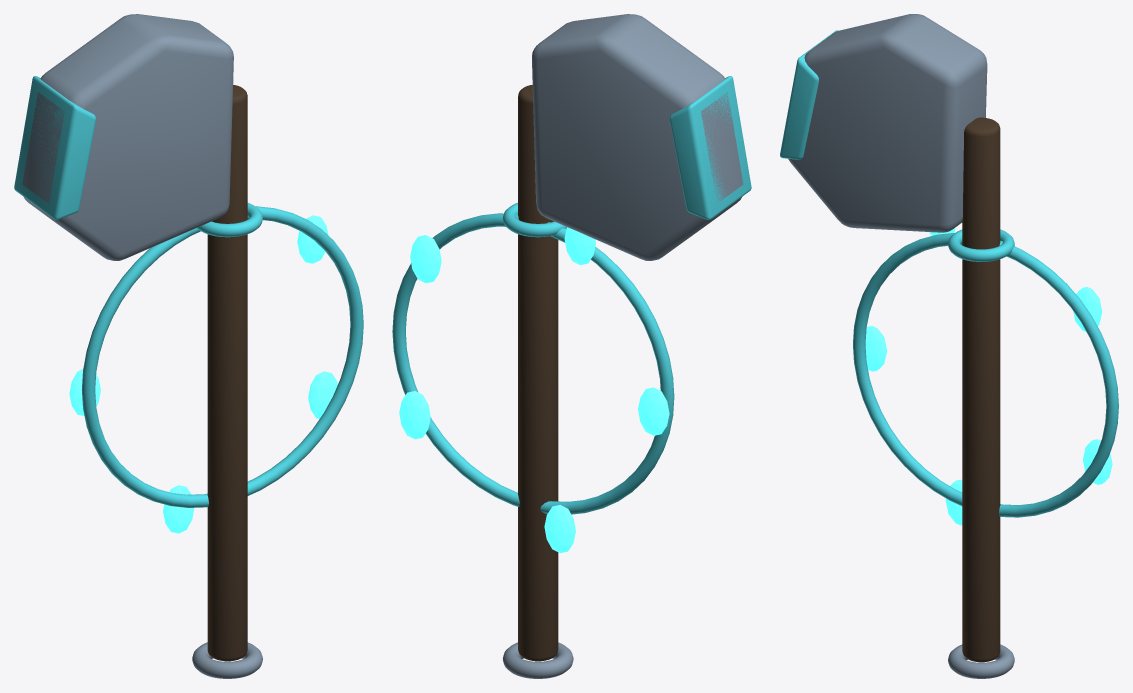
File: axe_v2.glb
3 renders of one model, left to right at view 1: azimuth 30°, elevation 25°; view 2: azimuth 150°, elevation 25°; view 3: azimuth 330°, elevation 25°, orthographic. The views are drawn at different scales.
Parts seen in each view (by area): view 1: AXE_HEAD_PRIMARY, HAFT_SECONDARY, VARIANT_HALO_ACCENT, AXE_EDGE_ACCENT, AXE_POMMEL_PRIMARY, AXE_COLLAR_ACCENT, VARIANT_GEM_EMISSIVE.004, VARIANT_GEM_EMISSIVE.003, VARIANT_GEM_EMISSIVE, VARIANT_GEM_EMISSIVE.002; view 2: AXE_HEAD_PRIMARY, HAFT_SECONDARY, VARIANT_HALO_ACCENT, AXE_EDGE_ACCENT, AXE_POMMEL_PRIMARY, VARIANT_GEM_EMISSIVE, VARIANT_GEM_EMISSIVE.002, VARIANT_GEM_EMISSIVE.004, VARIANT_GEM_EMISSIVE.003, AXE_COLLAR_ACCENT, VARIANT_GEM_EMISSIVE.001; view 3: AXE_HEAD_PRIMARY, HAFT_SECONDARY, VARIANT_HALO_ACCENT, AXE_EDGE_ACCENT, AXE_POMMEL_PRIMARY, AXE_COLLAR_ACCENT, VARIANT_GEM_EMISSIVE.002, VARIANT_GEM_EMISSIVE, VARIANT_GEM_EMISSIVE.004.
Part boxes in pixels (x1,y1,x2,y2): AXE_HEAD_PRIMARY: (22, 14, 233, 260); HAFT_SECONDARY: (207, 84, 247, 661); VARIANT_HALO_ACCENT: (82, 206, 363, 507); AXE_EDGE_ACCENT: (14, 76, 95, 219); AXE_POMMEL_PRIMARY: (192, 642, 262, 678); AXE_COLLAR_ACCENT: (197, 203, 262, 237); VARIANT_GEM_EMISSIVE.004: (308, 371, 337, 418); VARIANT_GEM_EMISSIVE.003: (163, 485, 194, 533); VARIANT_GEM_EMISSIVE: (297, 215, 328, 263); VARIANT_GEM_EMISSIVE.002: (69, 369, 100, 415); AXE_HEAD_PRIMARY: (532, 14, 743, 260); HAFT_SECONDARY: (518, 85, 558, 661); VARIANT_HALO_ACCENT: (392, 213, 674, 514); AXE_EDGE_ACCENT: (669, 76, 751, 219); AXE_POMMEL_PRIMARY: (503, 642, 573, 678); VARIANT_GEM_EMISSIVE: (410, 235, 441, 283); VARIANT_GEM_EMISSIVE.002: (638, 387, 669, 435); VARIANT_GEM_EMISSIVE.004: (399, 391, 430, 439); VARIANT_GEM_EMISSIVE.003: (544, 505, 575, 553); AXE_COLLAR_ACCENT: (502, 203, 566, 237); VARIANT_GEM_EMISSIVE.001: (564, 227, 595, 265); AXE_HEAD_PRIMARY: (788, 14, 987, 232); HAFT_SECONDARY: (962, 117, 1000, 662); VARIANT_HALO_ACCENT: (853, 233, 1118, 517); AXE_EDGE_ACCENT: (780, 30, 838, 159); AXE_POMMEL_PRIMARY: (948, 644, 1014, 678); AXE_COLLAR_ACCENT: (948, 229, 1014, 261); VARIANT_GEM_EMISSIVE.002: (865, 326, 887, 371); VARIANT_GEM_EMISSIVE: (1073, 287, 1102, 332); VARIANT_GEM_EMISSIVE.004: (1083, 439, 1112, 484).
Size of the model in its own units: 2.01 by 3.81 by 0.46.
